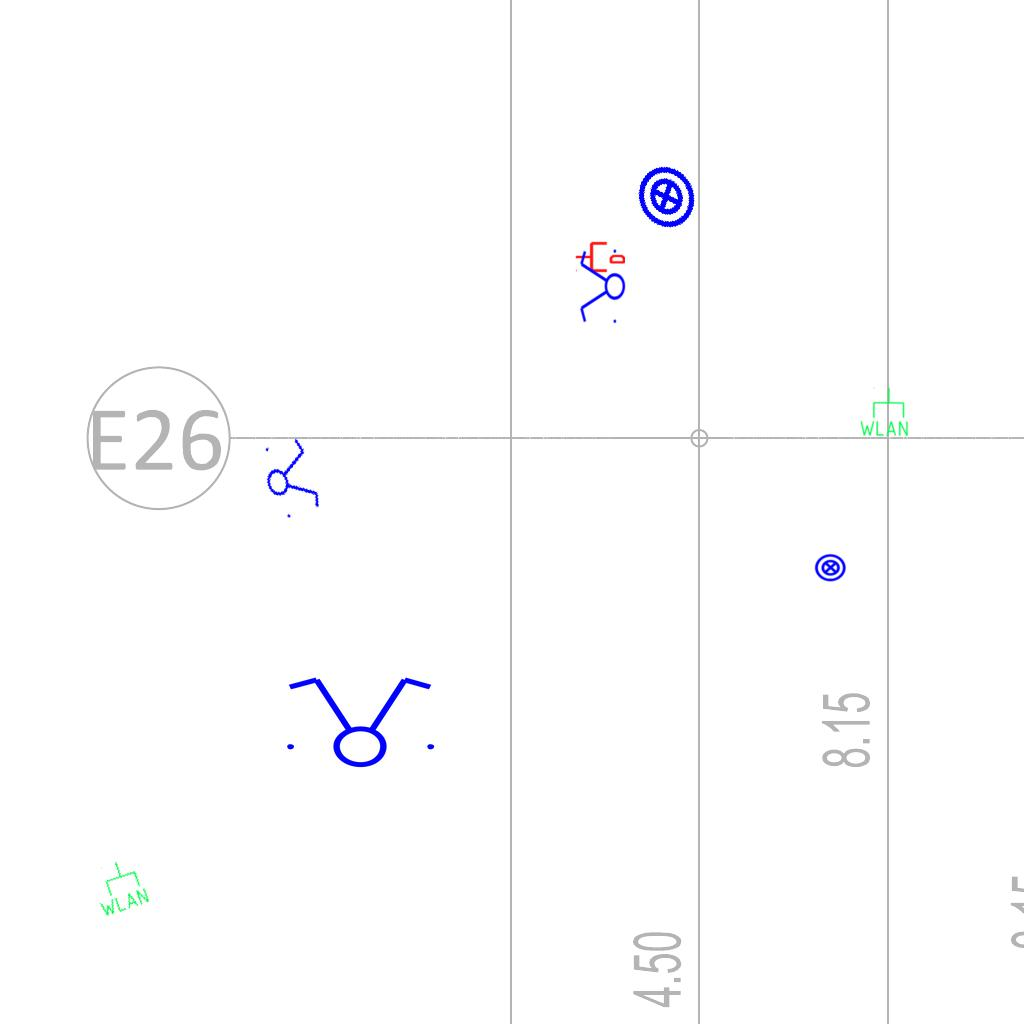Datenanschluss_einfach: (575, 240, 625, 274)
Serienschalter: (275, 673, 443, 769), (254, 430, 326, 526), (578, 245, 626, 329)
Taster_beleuchtet: (622, 153, 710, 241), (814, 551, 847, 584)
WLAN: (85, 853, 153, 921), (858, 386, 910, 438)
